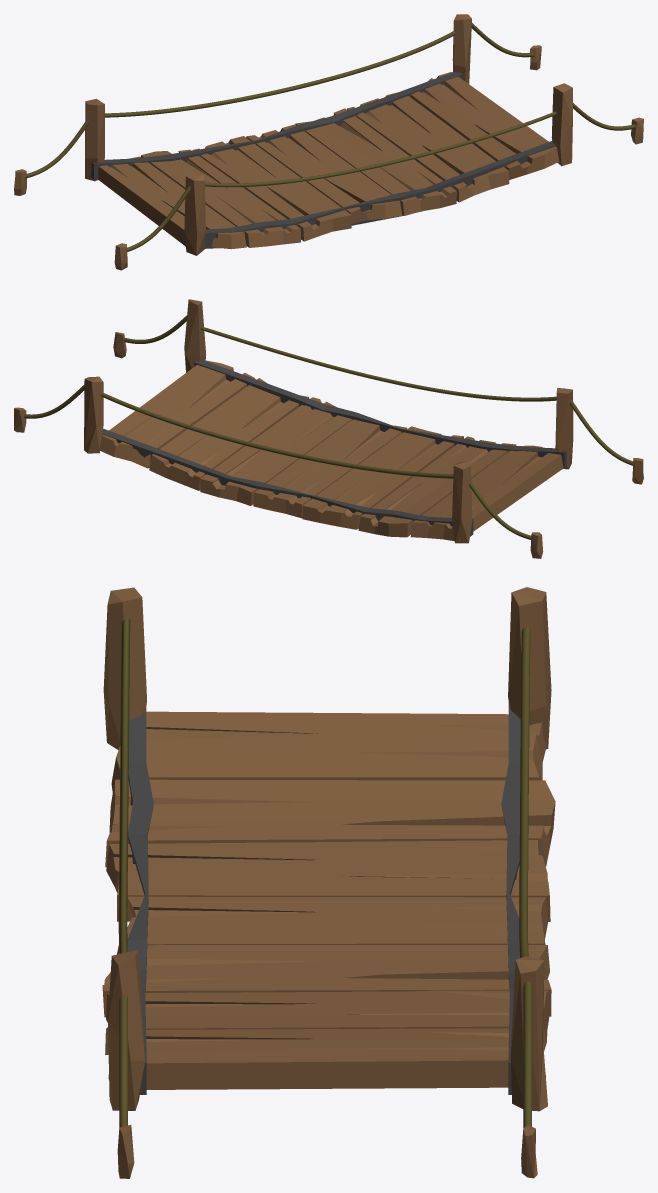
The model's file is bridge.glb.
3 views of the same model, one above another, from view 1: azimuth 30°, elevation 25°; view 2: azimuth 150°, elevation 25°; view 3: azimuth 270°, elevation 25° (orthographic). The views are drawn at different scales.
Visible parts, largest first — view 1: planks; view 2: planks; view 3: planks.
Boxes of the visible parts, bbox=[...] form: planks: bbox=[14, 14, 643, 270]; planks: bbox=[14, 299, 643, 558]; planks: bbox=[102, 587, 555, 1178].
Bounding box in the file's own units: 25.37 × 4.26 × 9.41.
